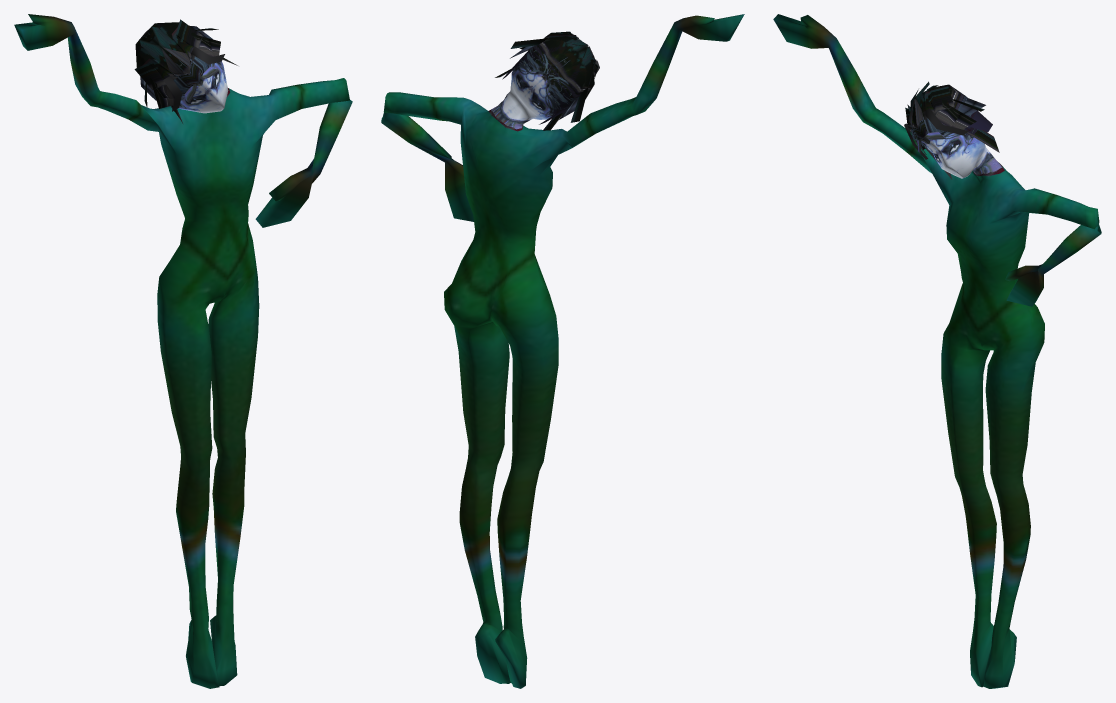
The model's file is girlparasite-danceglb.glb.
3 renders of one model, left to right at view 1: azimuth 30°, elevation 25°; view 2: azimuth 150°, elevation 25°; view 3: azimuth 330°, elevation 25°, orthographic. The views are drawn at different scales.
Parts seen in each view (by area): view 1: Cube.011; view 2: Cube.011; view 3: Cube.011.
Part boxes in pixels (box(x1,y1,x2,y2)): Cube.011: box(14, 14, 352, 688); Cube.011: box(381, 14, 744, 688); Cube.011: box(773, 14, 1101, 688).
Size of the model in its own units: 0.8666 by 1.71 by 0.2417.
1 material, 1 textured.
